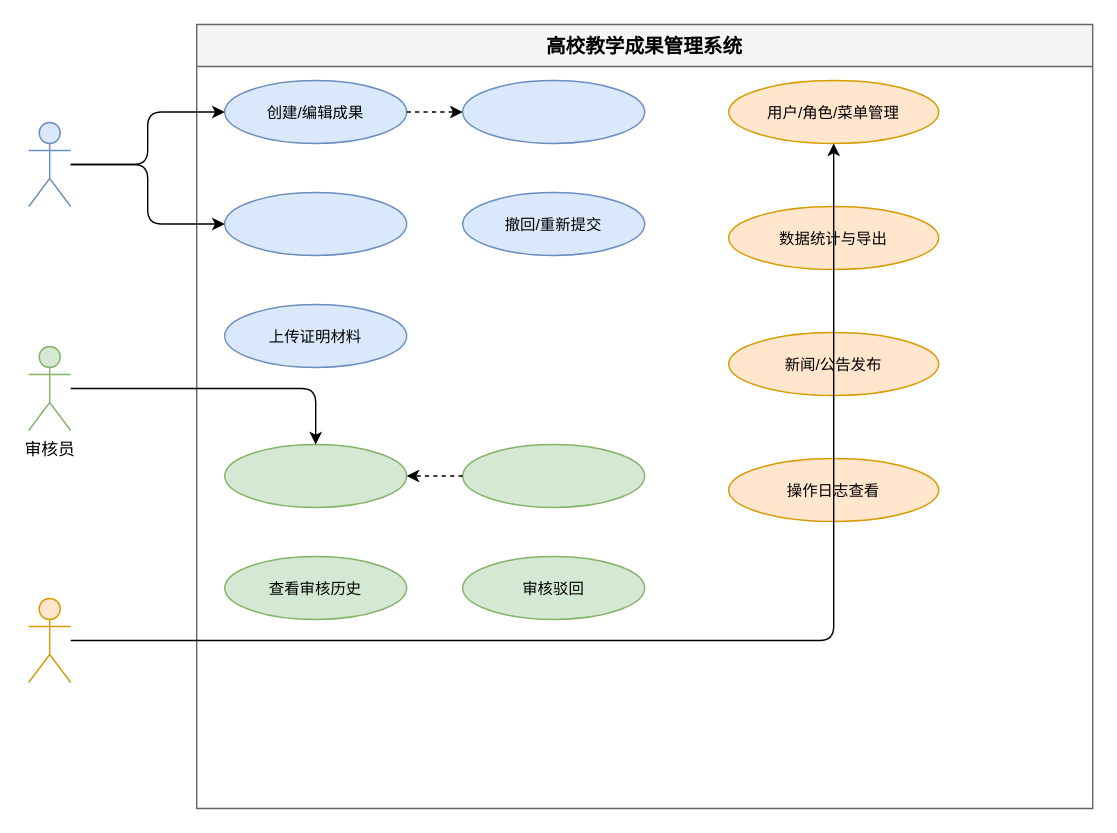
This 1117x833 diagram has some shape labels left out. The shapes that lost their labels are listed below. From the top down, each one's box as (x1, y1, x2, y2) in pixels, then its label:
(461, 79, 645, 144): 提交成果审核
(27, 121, 71, 206): 教师
(223, 191, 407, 255): 查看我的成果
(223, 443, 407, 507): 查看待审列表
(461, 443, 645, 507): 审核通过
(27, 597, 71, 682): 管理员
